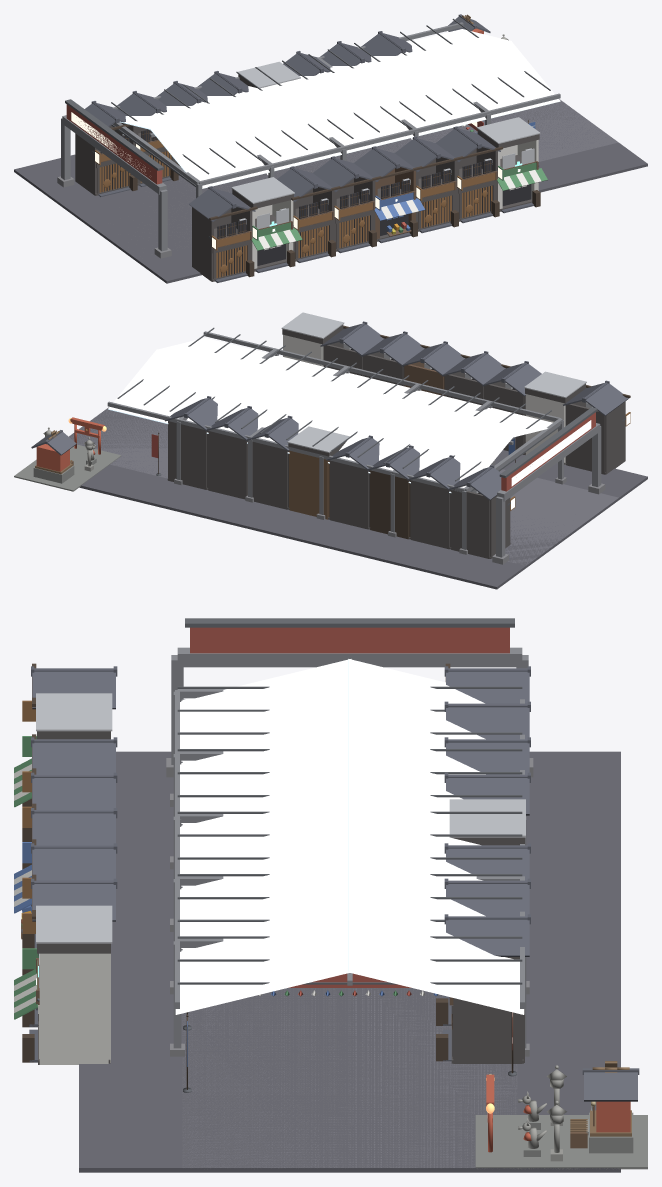
File: prop_block_sabire.glb
The picture shows the model from 3 angles, top to bottom: view 1: azimuth 30°, elevation 25°; view 2: azimuth 150°, elevation 25°; view 3: azimuth 270°, elevation 25°; orthographic projection. The views are drawn at different scales.
Visible parts, largest first — view 1: block_sabire; view 2: block_sabire; view 3: block_sabire.
Part boxes in pixels (x1,y1,x2,y2): block_sabire: [14, 14, 647, 283]; block_sabire: [14, 312, 647, 589]; block_sabire: [14, 618, 647, 1172].
Size of the model in its own units: 40 by 6.99 by 25.74.
